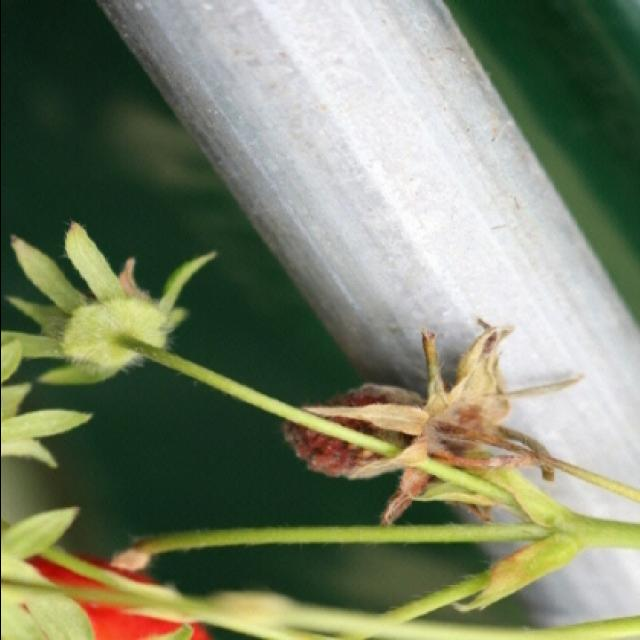Gray Mold: (281, 316, 582, 530)
